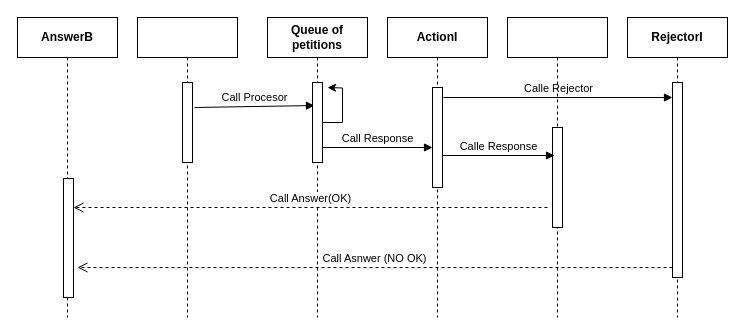
The diagram is 745 pixels wide and 335 high, and some of its shapes have lost their labels. Here are the shapes that lost their labels. From the top down, the box of each, then its label:
(136, 16, 238, 318): AnswerD
(506, 16, 608, 318): ResponseI
